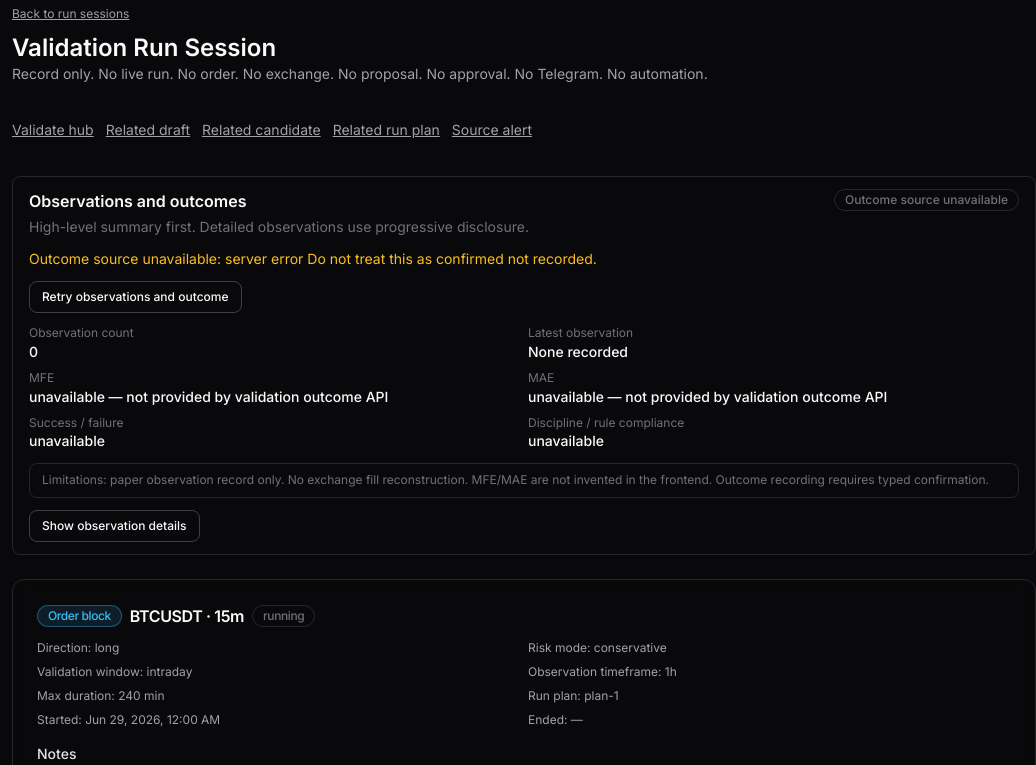
PaperValidationRunSessionDetailPage Slice 82/83 / Phase C2 honesty › retries extras without requiring main session reload
Click the button with test id "outcome-retry-extras" at [135, 297], box [29,281,242,313]
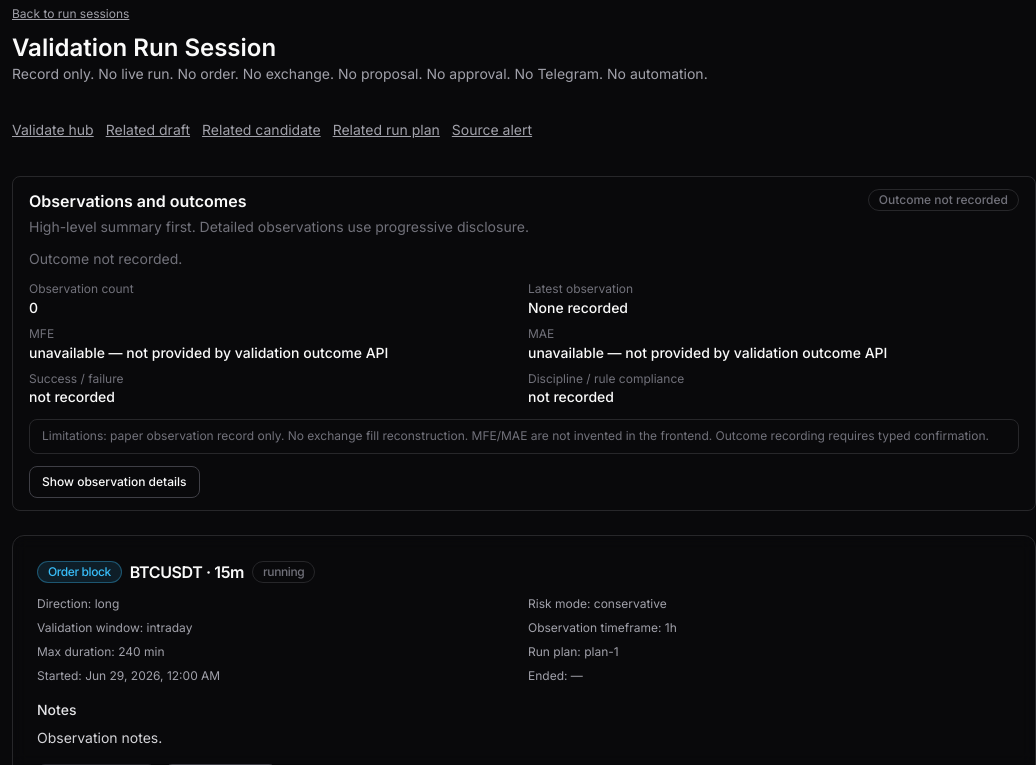
Check: the message "Outcome not recorded." is shown, box [29,250,182,267]
